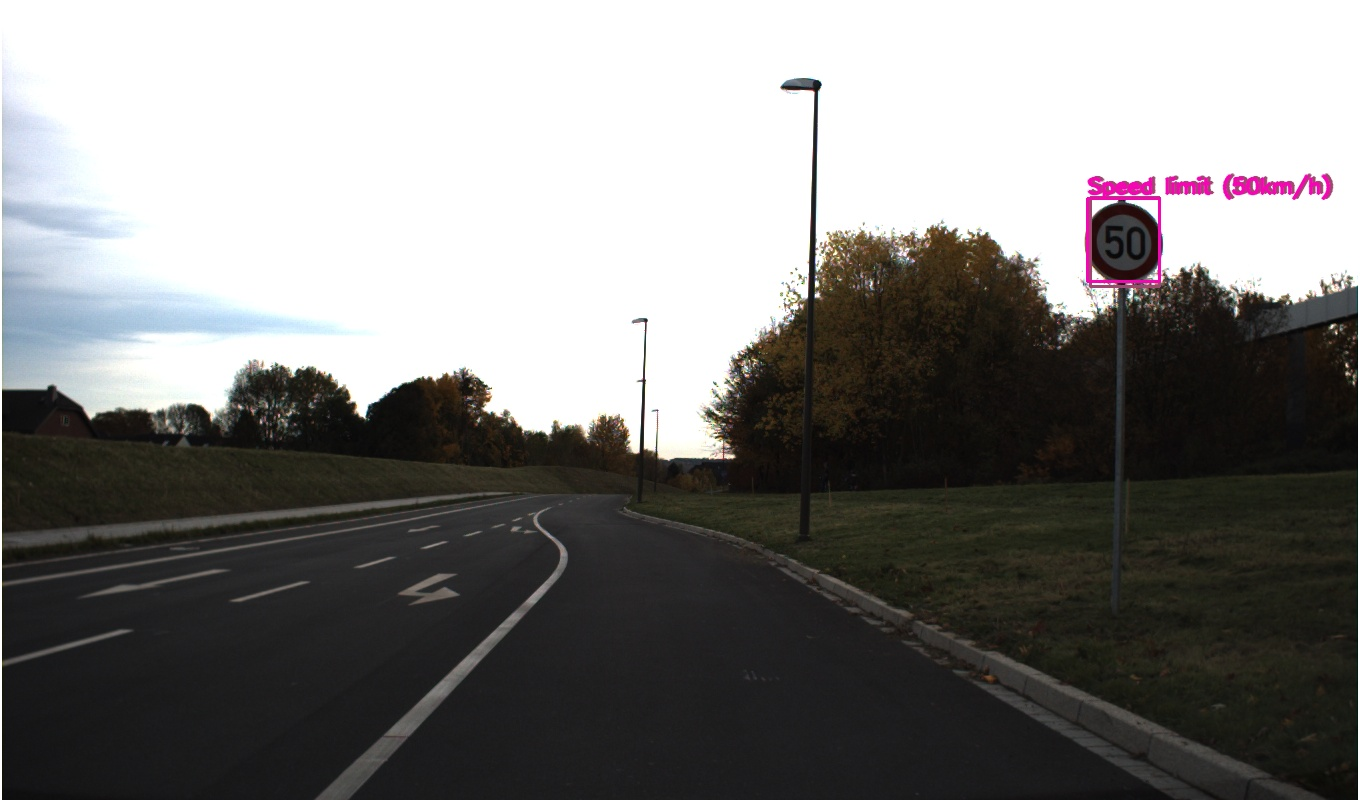No passing: (929, 489, 954, 513)
